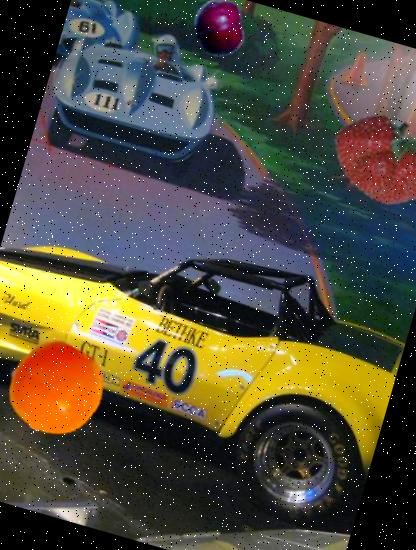Physalis: (0, 330, 114, 446)
Plum: (183, 0, 255, 63)
Strawberry: (318, 91, 416, 225)
